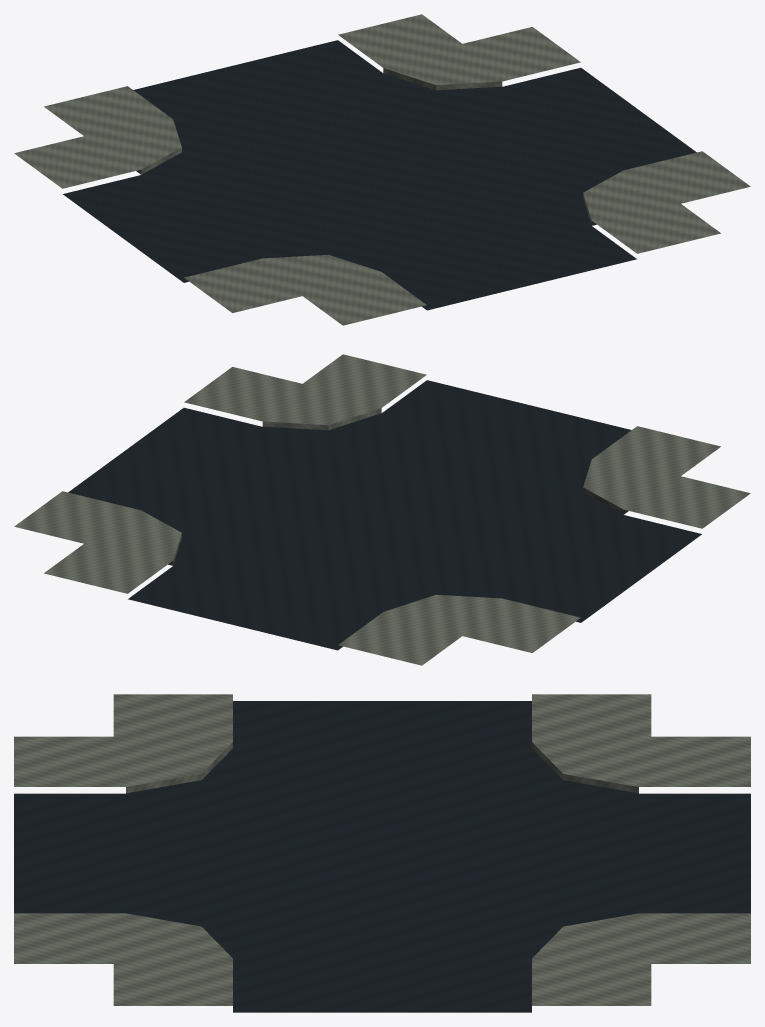
File: junc_cross_2x2_ShadowProxy.glb
The picture shows the model from 3 angles, top to bottom: view 1: azimuth 30°, elevation 25°; view 2: azimuth 150°, elevation 25°; view 3: azimuth 270°, elevation 25°; orthographic projection. The views are drawn at different scales.
Visible parts, largest first — view 1: junc_cross_2x2__surface.003, junc_cross_2x2__rounded_corner_curb.003; view 2: junc_cross_2x2__surface.003, junc_cross_2x2__rounded_corner_curb.003; view 3: junc_cross_2x2__surface.003, junc_cross_2x2__rounded_corner_curb.003.
Part boxes in pixels (<box>): junc_cross_2x2__surface.003: <box>63,40,696,310</box>; junc_cross_2x2__rounded_corner_curb.003: <box>14,14,750,325</box>; junc_cross_2x2__surface.003: <box>68,380,701,650</box>; junc_cross_2x2__rounded_corner_curb.003: <box>14,354,750,665</box>; junc_cross_2x2__surface.003: <box>14,701,750,1012</box>; junc_cross_2x2__rounded_corner_curb.003: <box>14,694,750,1005</box>.
Size of the model in its own units: 14.8 by 0.145 by 14.8.
Materials: 3 (3 with a texture image).
